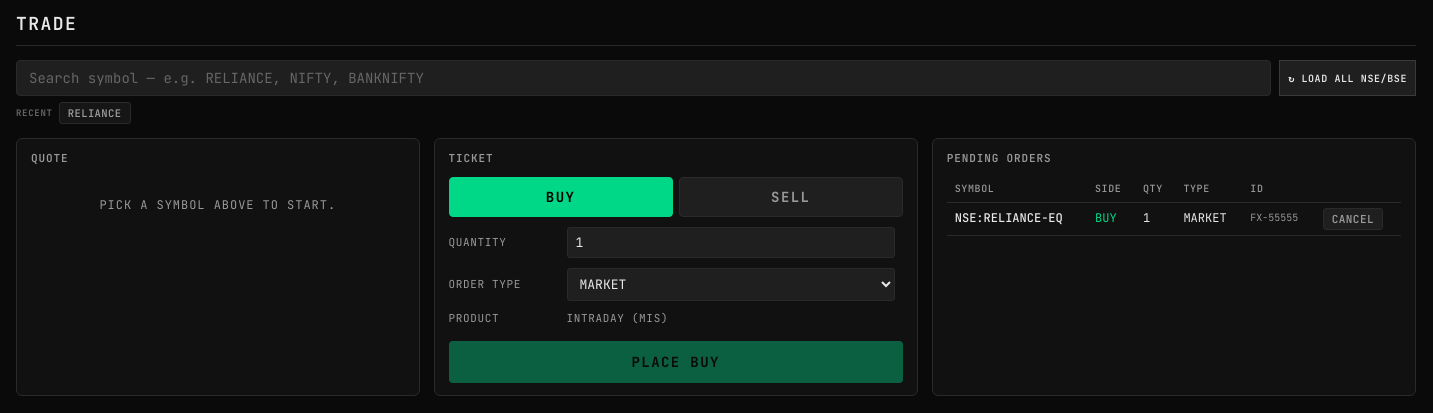
it: Trade page › shows an error banner when the cancel request itself fails (e.g. 5xx)
Click the button with test id "cancel-FX-55555": (1353, 218) [1323,208,1383,230]
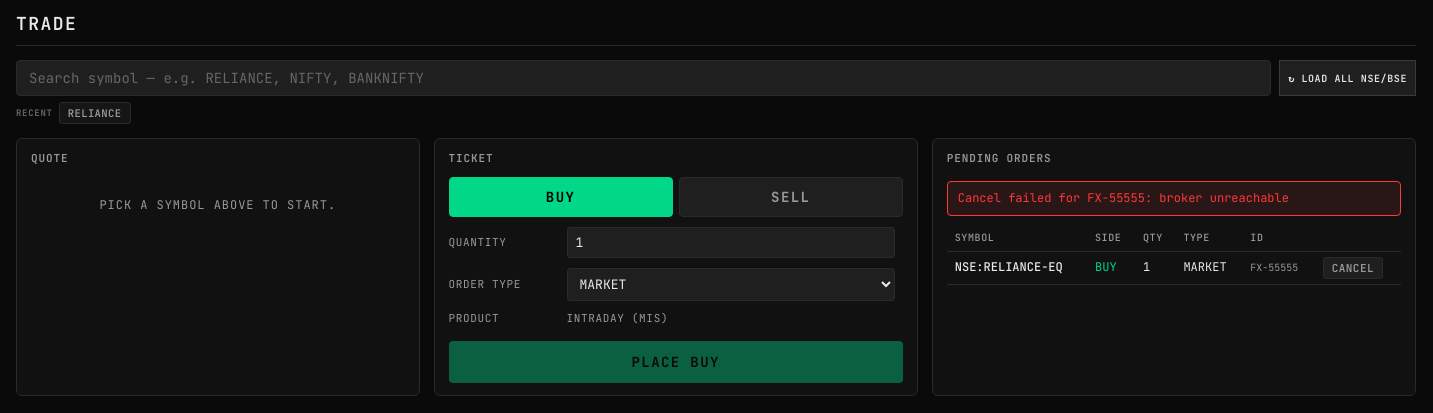
Expected: the button with test id "cancel-FX-55555" is shown, [1323,257,1383,279]
Expected: the text with test id "cancel-result" shows "Cancel failed", [958,190,1289,206]
